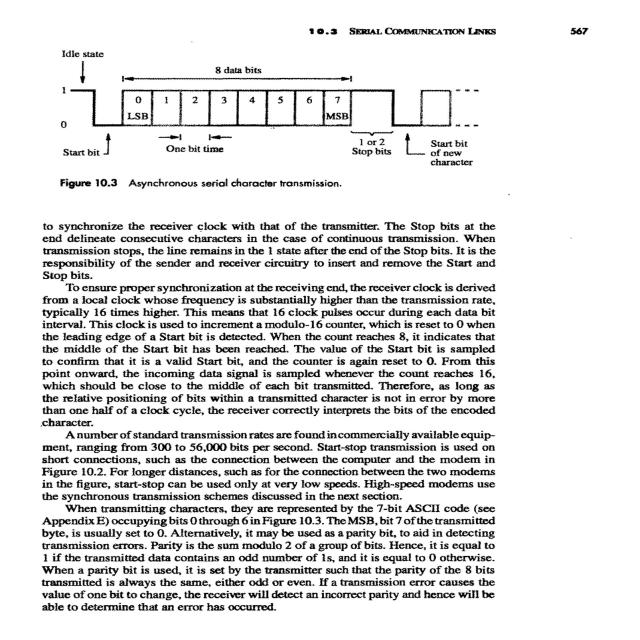diagram: (21, 41, 580, 202)
